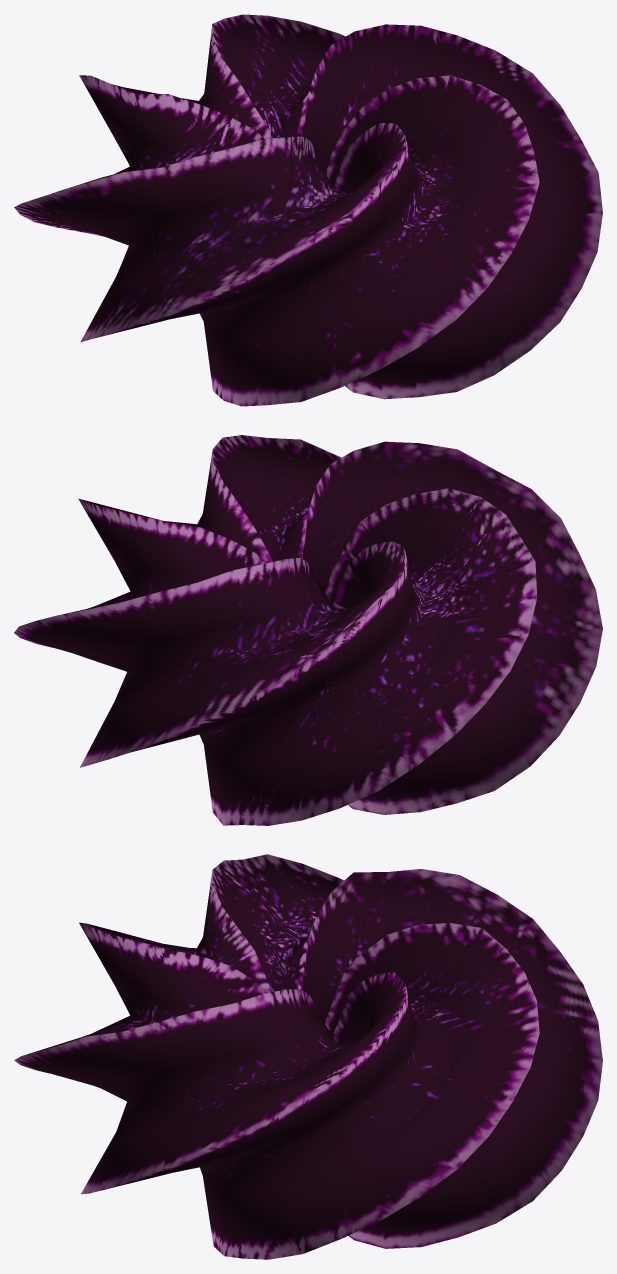
Rendered from Spiral.fbx.
The picture shows the model from 3 angles, top to bottom: view 1: azimuth 30°, elevation 25°; view 2: azimuth 150°, elevation 25°; view 3: azimuth 270°, elevation 25°; orthographic projection.
Visible parts, largest first — view 1: SM_spiral; view 2: SM_spiral; view 3: SM_spiral.
Part boxes in pixels (x1,y1,x2,y2): SM_spiral: (14,14,602,406); SM_spiral: (14,435,602,825); SM_spiral: (14,854,602,1259).
Bounding box in the file's own units: 12.03 × 12.87 × 6.18.
Materials: 1 (1 with a texture image).
